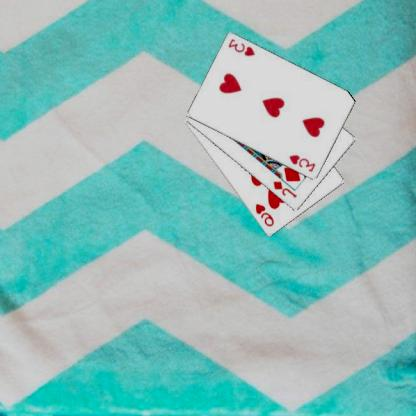3H: (227, 36, 259, 58), (288, 152, 319, 174)
9H: (254, 201, 277, 228)
JD: (272, 178, 300, 200)
